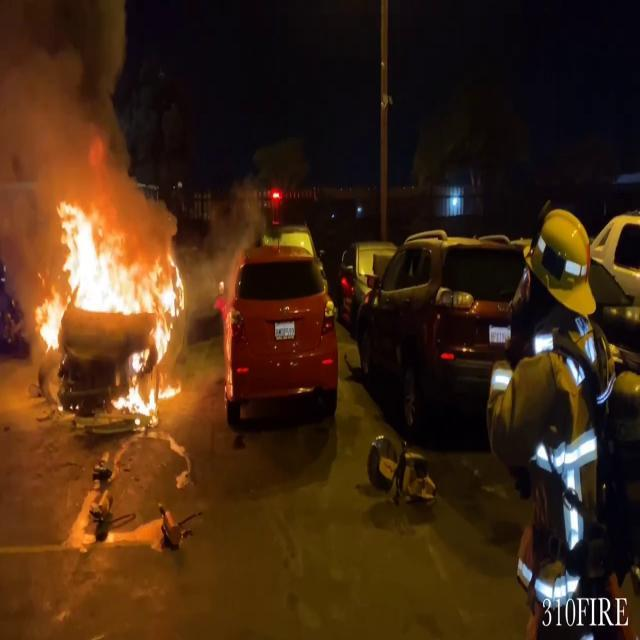Fire: (28, 197, 190, 415)
Smoke: (0, 0, 162, 226)
